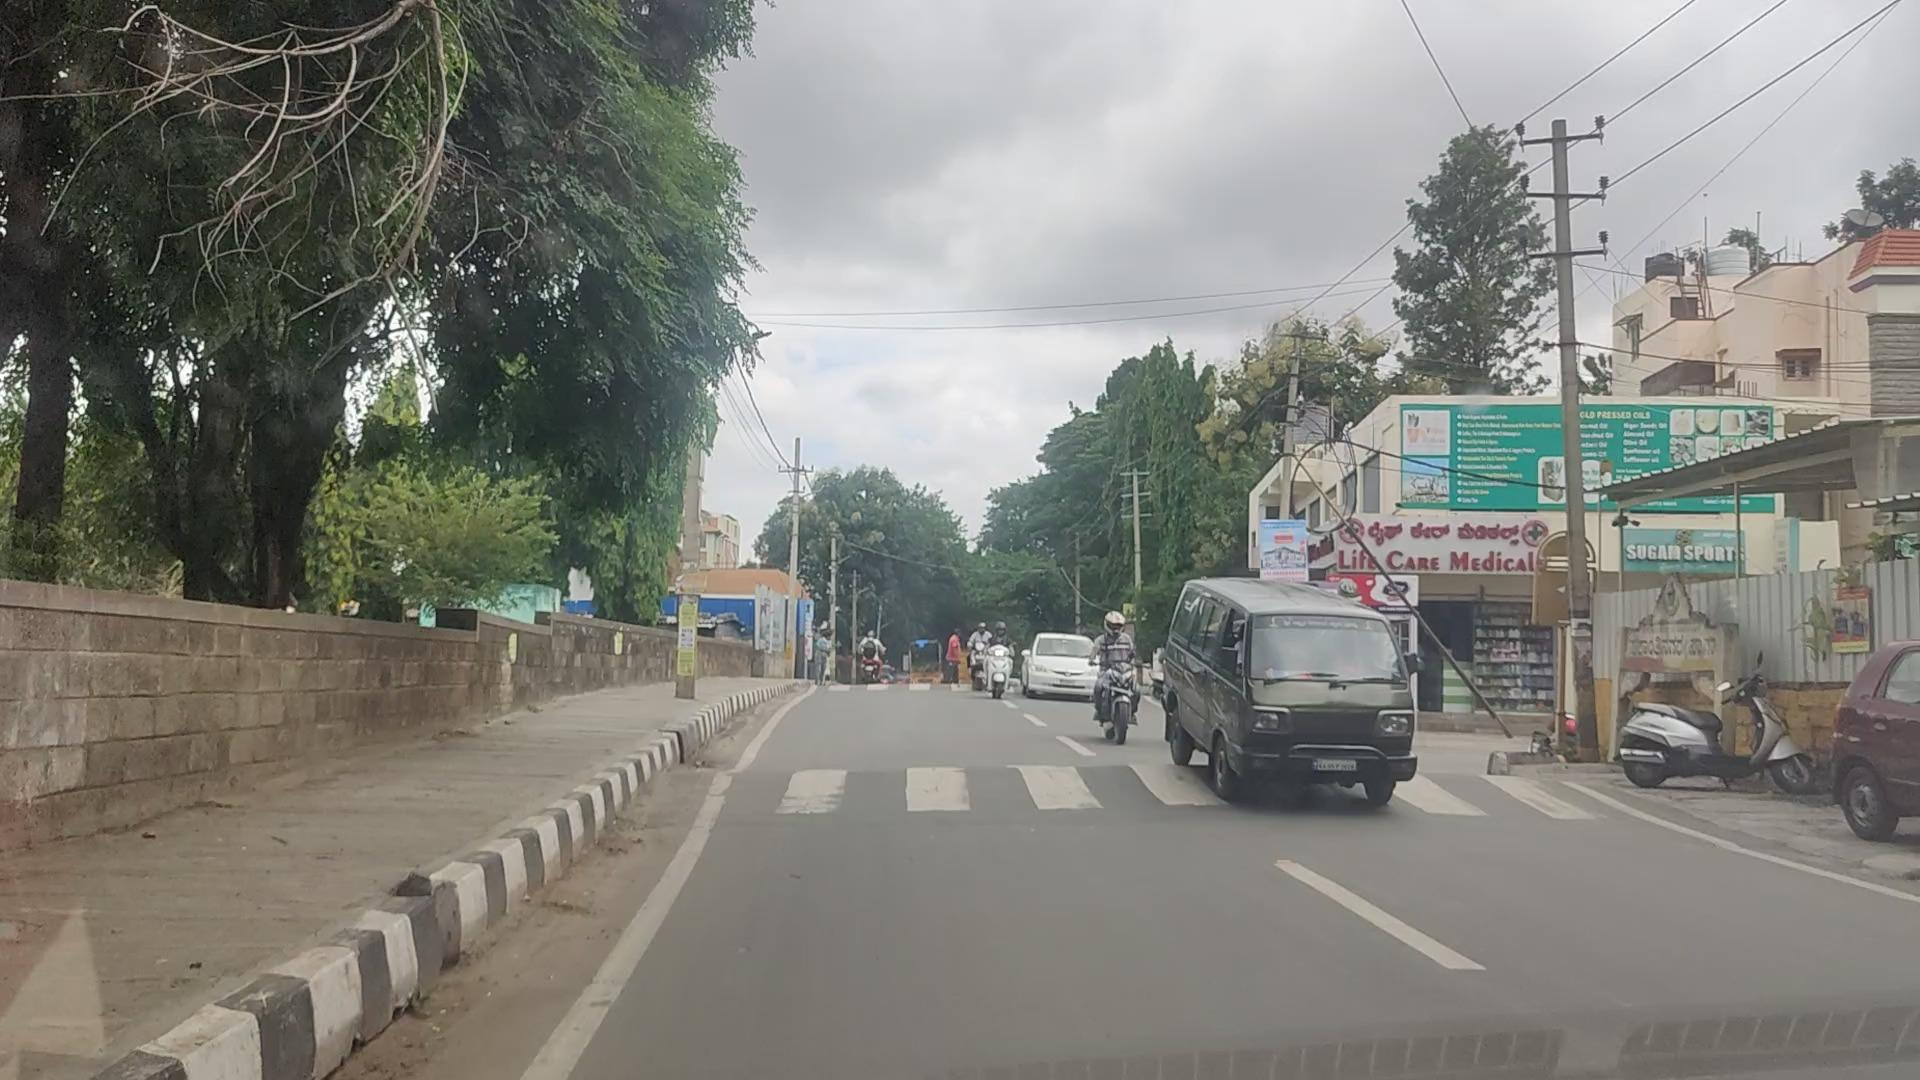LMV: (1160, 570, 1418, 802)
SpeedBump: (696, 762, 1549, 815)
